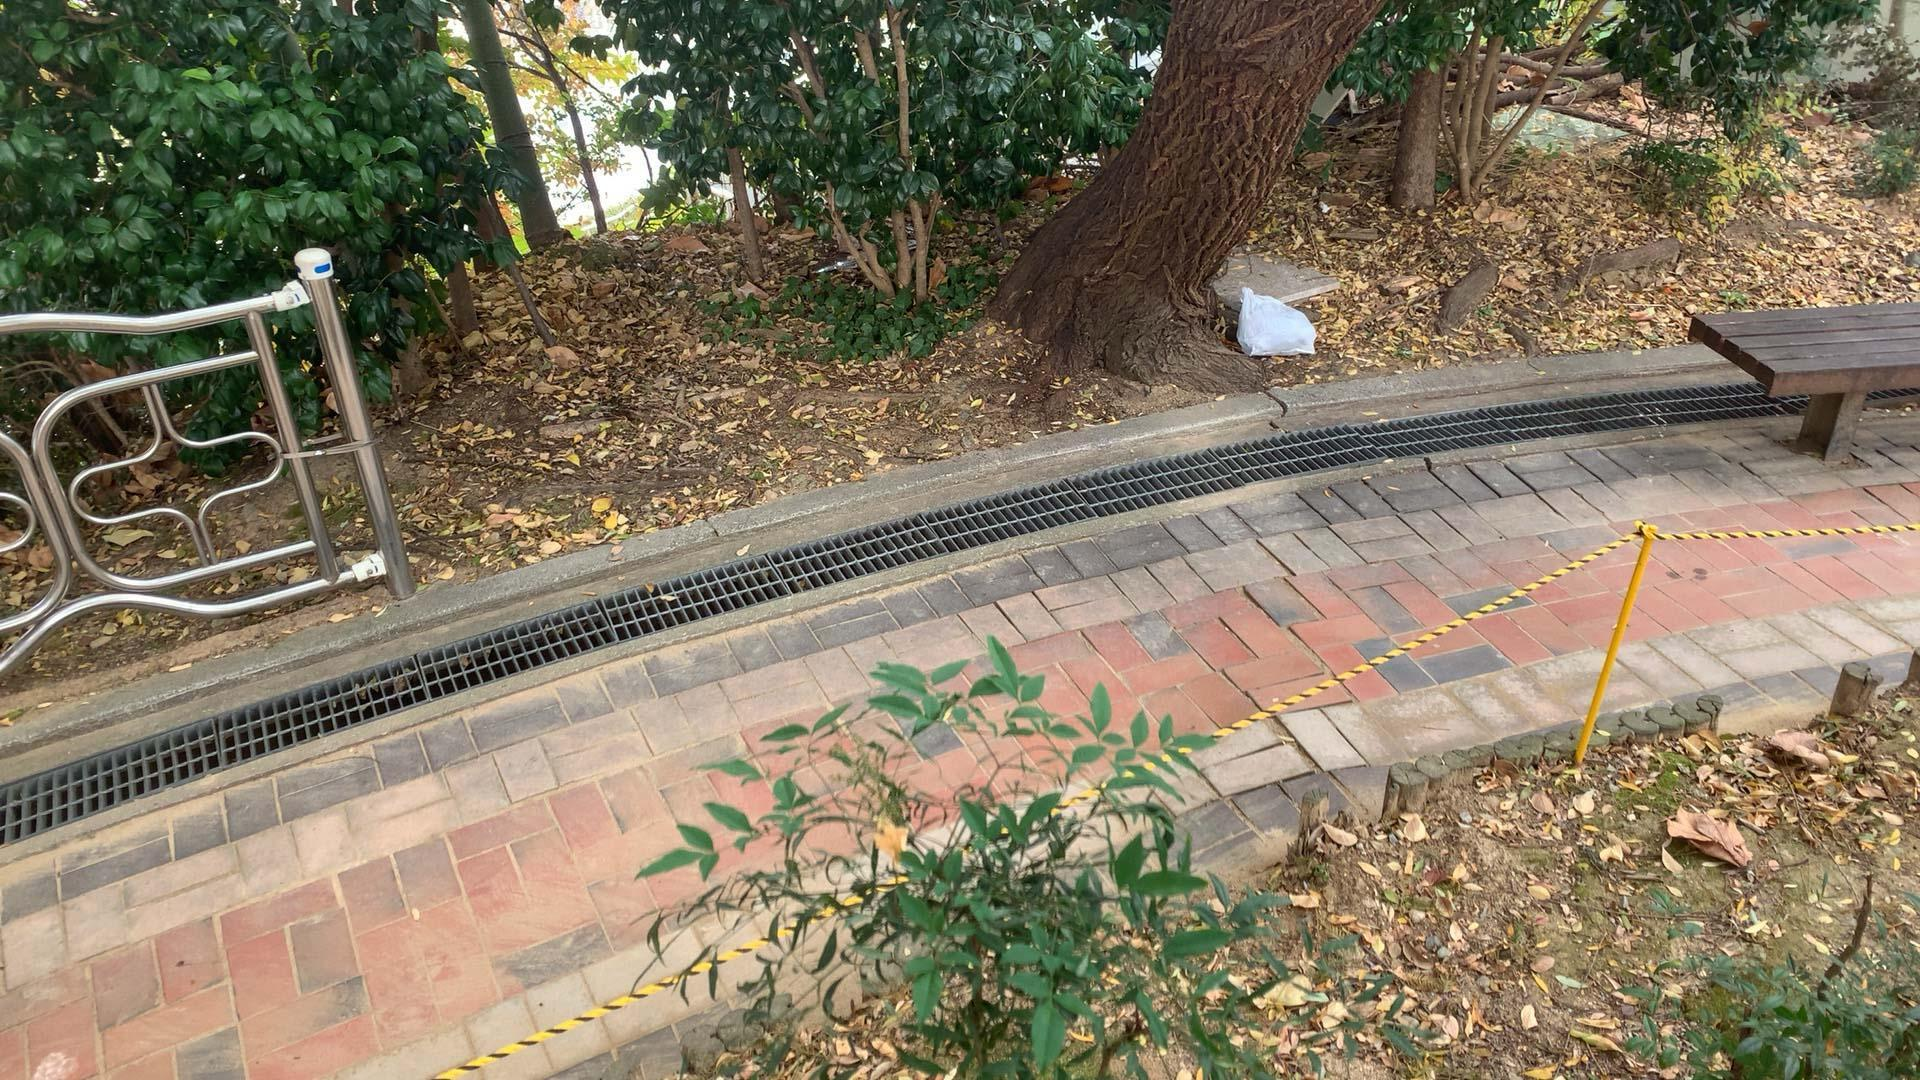white_bag: (1228, 280, 1331, 367)
